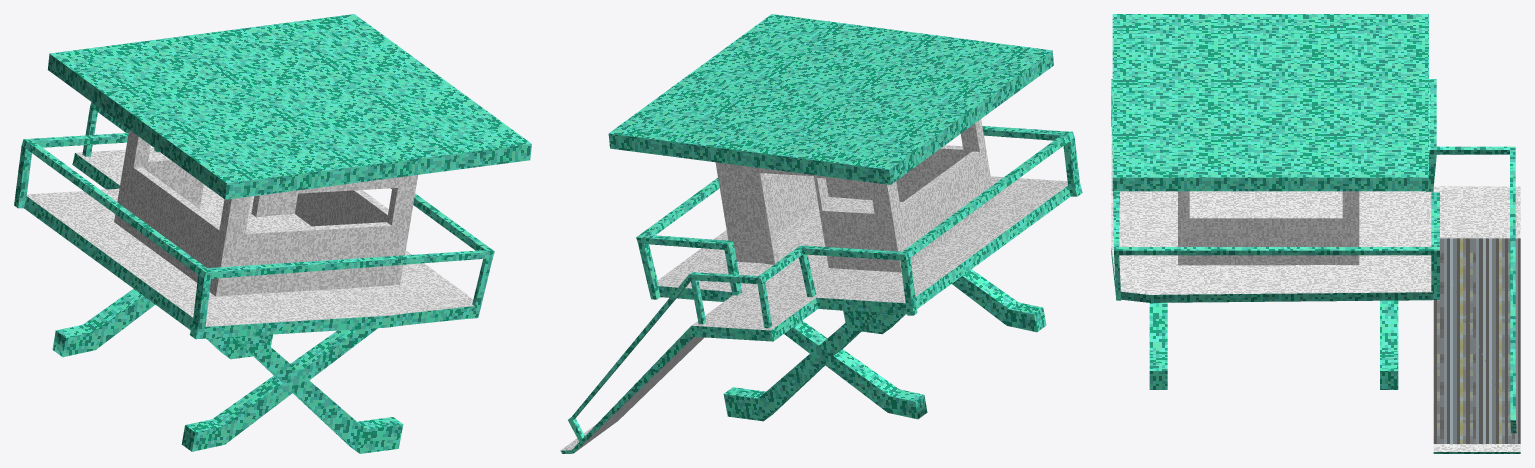
File: BGN_BEACH_GUARD_HOUSE  (UPDATED).fbx
3 renders of one model, left to right at view 1: azimuth 30°, elevation 25°; view 2: azimuth 150°, elevation 25°; view 3: azimuth 270°, elevation 25°, orthographic. The views are drawn at different scales.
Visible parts, largest first — view 1: BGN_BEACH_GUARD_HOUSE (UPDATED); view 2: BGN_BEACH_GUARD_HOUSE (UPDATED); view 3: BGN_BEACH_GUARD_HOUSE (UPDATED).
Boxes of the visible parts, box(x1,y1,x2,y2) form: BGN_BEACH_GUARD_HOUSE (UPDATED): box(14, 14, 531, 453); BGN_BEACH_GUARD_HOUSE (UPDATED): box(560, 14, 1082, 453); BGN_BEACH_GUARD_HOUSE (UPDATED): box(1111, 14, 1520, 453).
Bounding box in the file's own units: 671 × 654 × 789.
